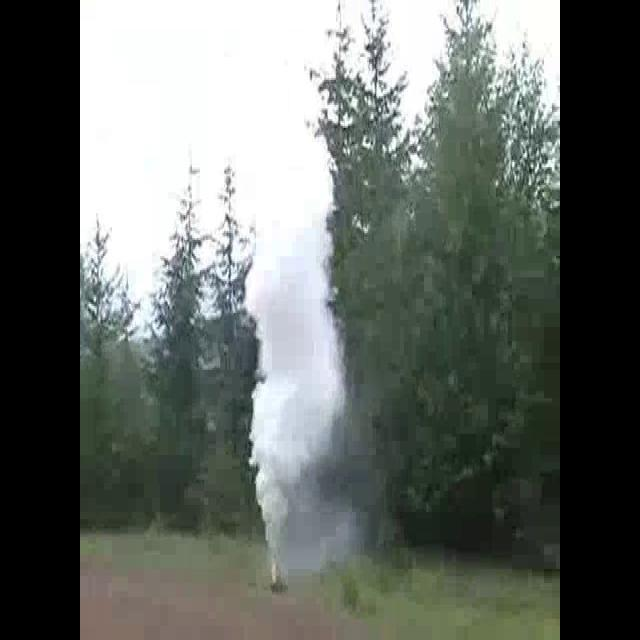Smoke: (253, 215, 349, 568)
